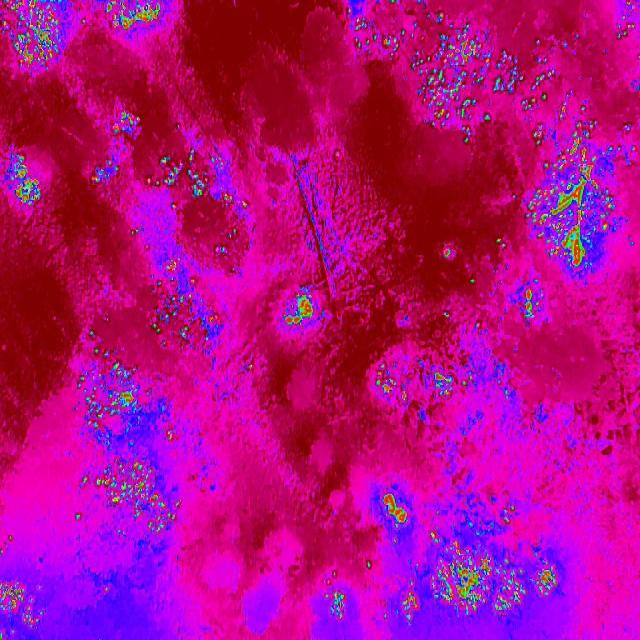fire: (357, 0, 565, 129), (319, 530, 560, 628), (76, 340, 186, 542), (527, 85, 640, 275), (0, 0, 172, 71), (136, 238, 239, 354), (430, 240, 542, 328), (140, 146, 256, 227), (370, 352, 466, 412), (82, 110, 144, 190), (0, 148, 52, 217), (0, 552, 39, 640), (282, 285, 322, 337), (378, 486, 418, 532), (611, 0, 639, 45)
